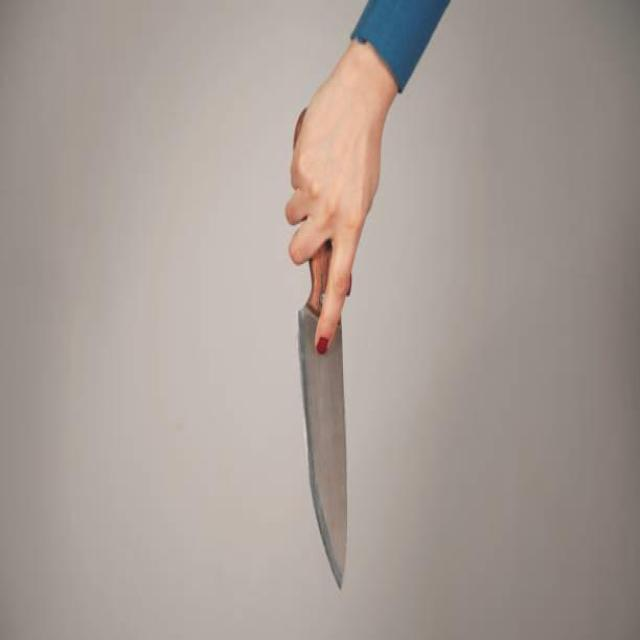faca: (280, 71, 382, 604)
